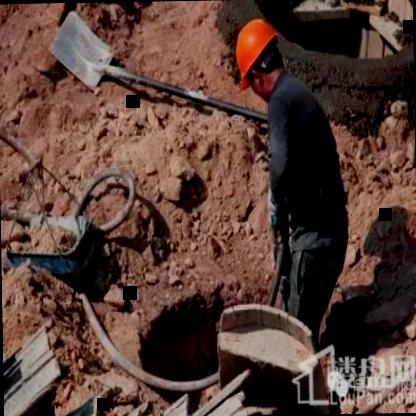helmet: (229, 14, 289, 104)
